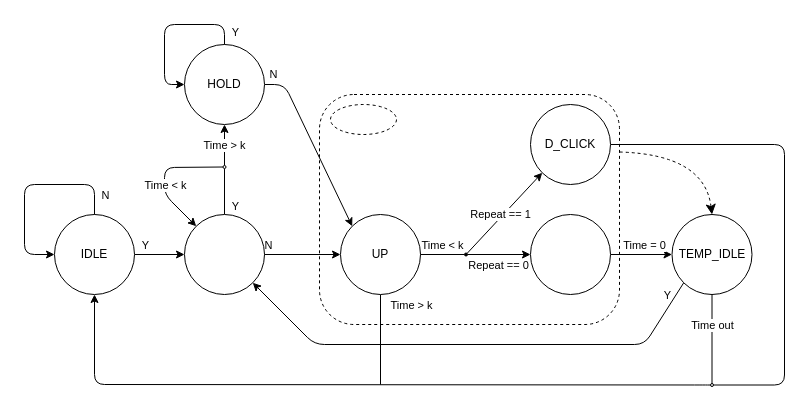
Image size: 803x411. Some labels were removed from this diagram. Each missing label, with the centre of its shape:
CLICK: the point at 570,254
DOWN: the point at 224,254
Transient: the point at 363,119
